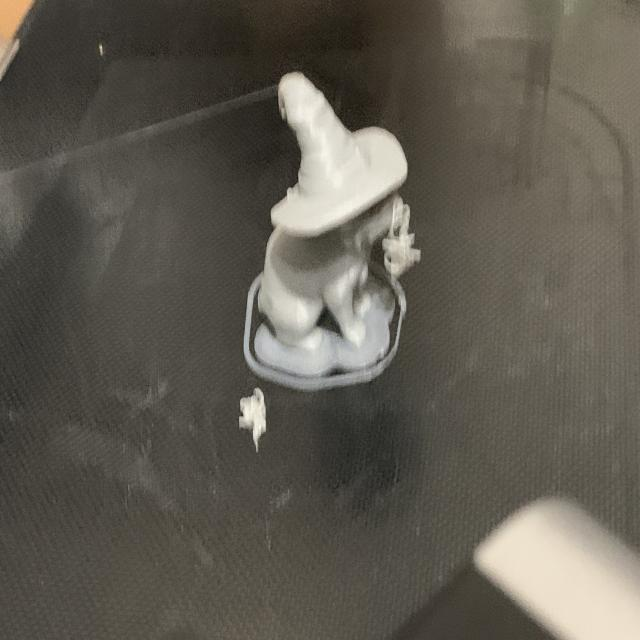spaghetti: (380, 182, 427, 285), (234, 380, 275, 456)
